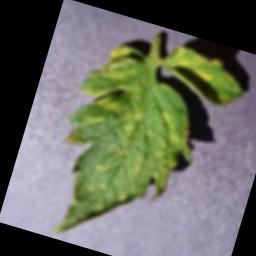Leaf_Mold: (36, 35, 219, 256), (155, 43, 252, 114)
